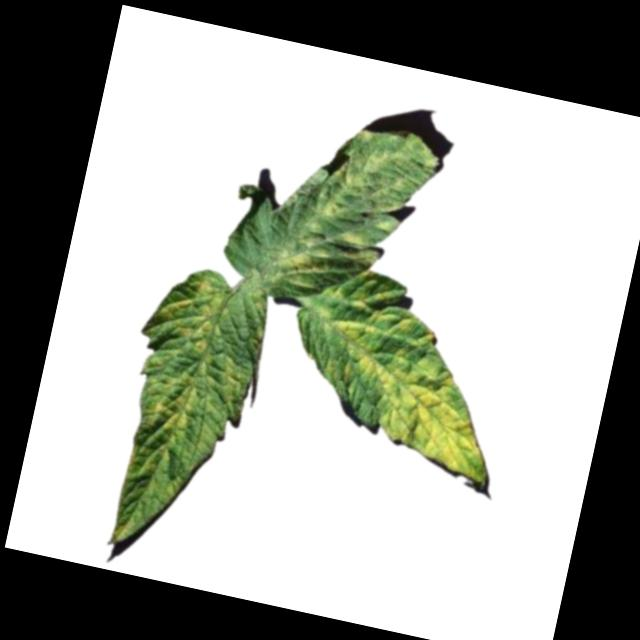Leaf_Mold: (277, 262, 528, 494), (98, 258, 280, 568), (268, 110, 441, 309)
